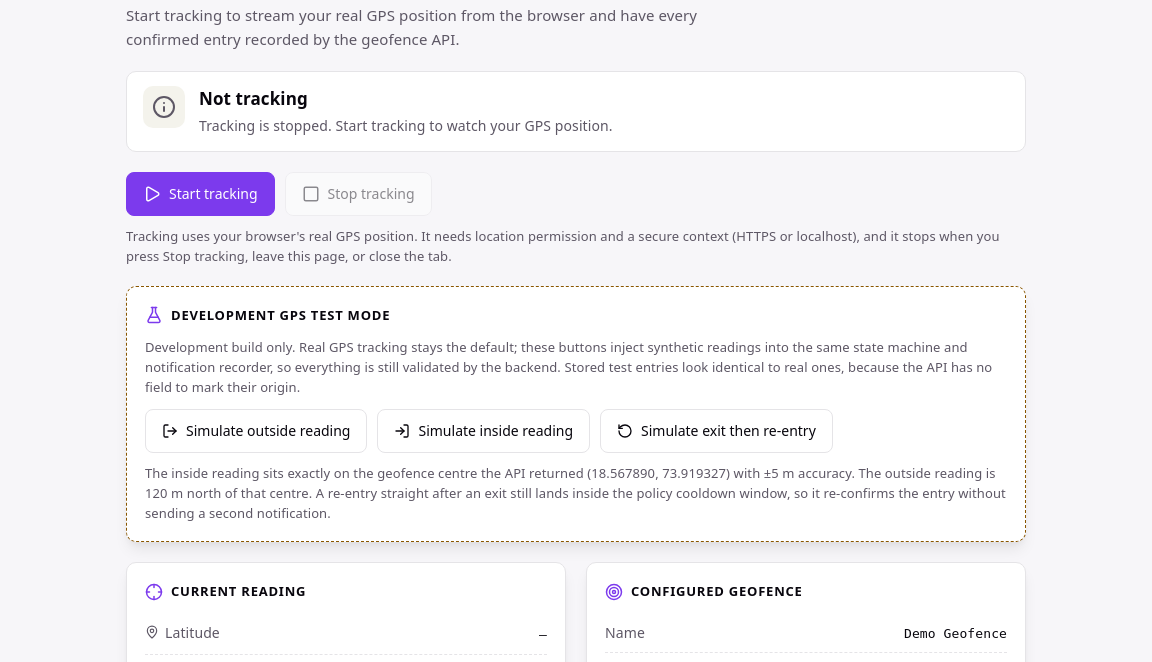
Test: VisitorTrackingPage › submits only one entry for repeated inside readings
Click the button "Start tracking" at (200, 194), box [126,172,275,216]
(page scrolled)
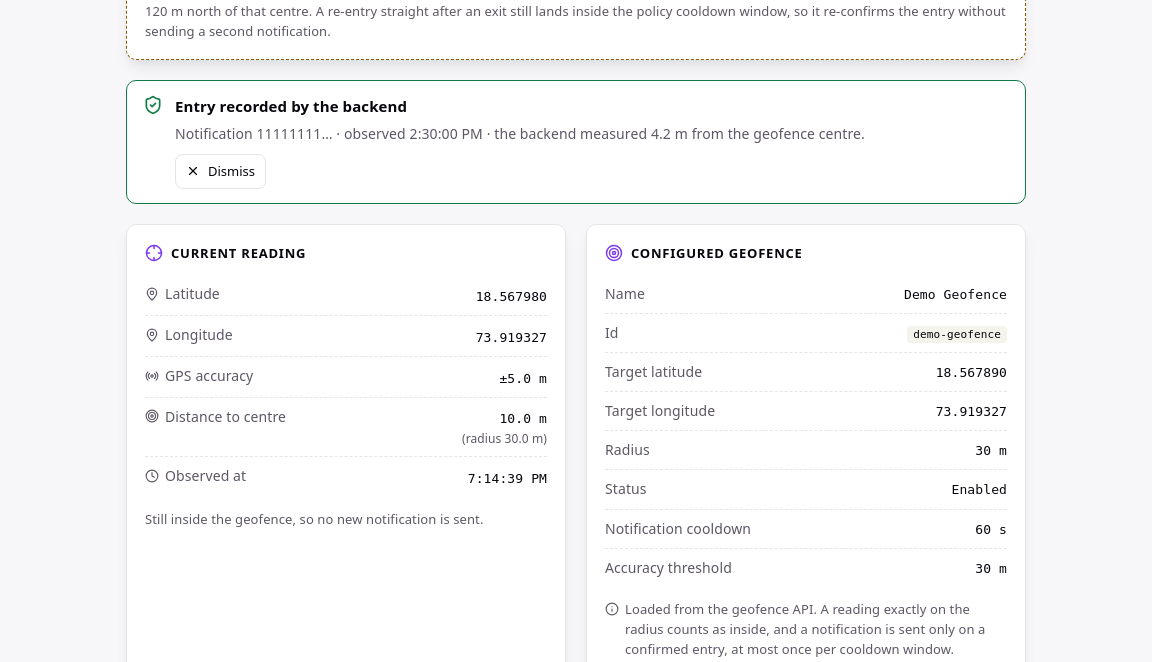
Expected: the text "Entry recorded by the backend" is shown, [175,96,407,116]
Expected: the text "Still inside the geofence, so no new notification is sent." is shown, [145,510,484,528]
